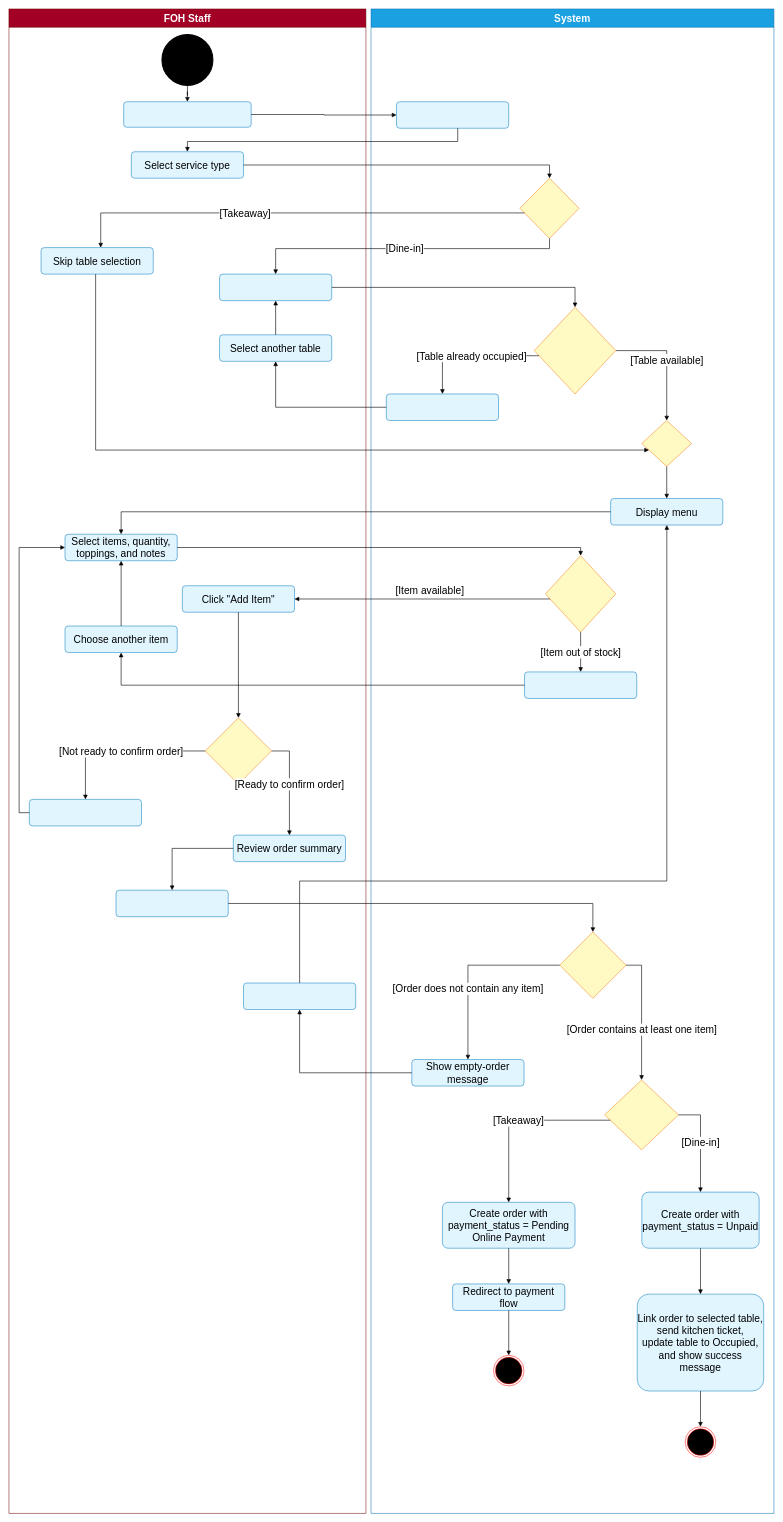
The diagram is 783 pixels wide and 1522 high, and some of its shapes have lost their labels. Each missing label, with the box of its shape:
Click "Confirm Order": (116, 890, 228, 917)
Click "Create New Order": (123, 101, 251, 127)
Continue selecting items: (29, 799, 142, 826)
Display order form: (396, 101, 509, 128)
Return to order form and add items: (243, 983, 356, 1010)
Select a table from layout: (219, 274, 332, 301)
Show item-unavailable message: (524, 671, 637, 698)
Show unavailable-table message: (386, 393, 499, 420)
